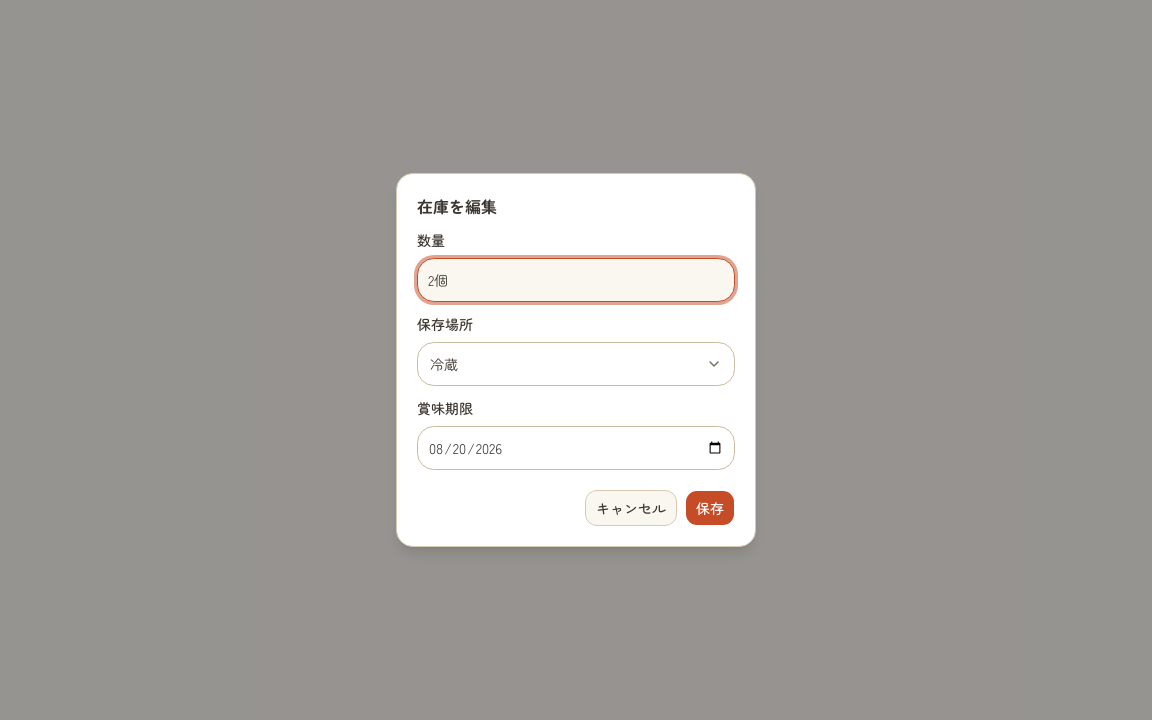
it: StockEditDialog › SED-10: 通信エラー時は入力値を保持してダイアログを閉じない
This screenshot has width=1152, height=720.
Replace the text in the field showing "2個" with "5個". click: x=576, y=280
box: x1=417 y1=258 x2=735 y2=302
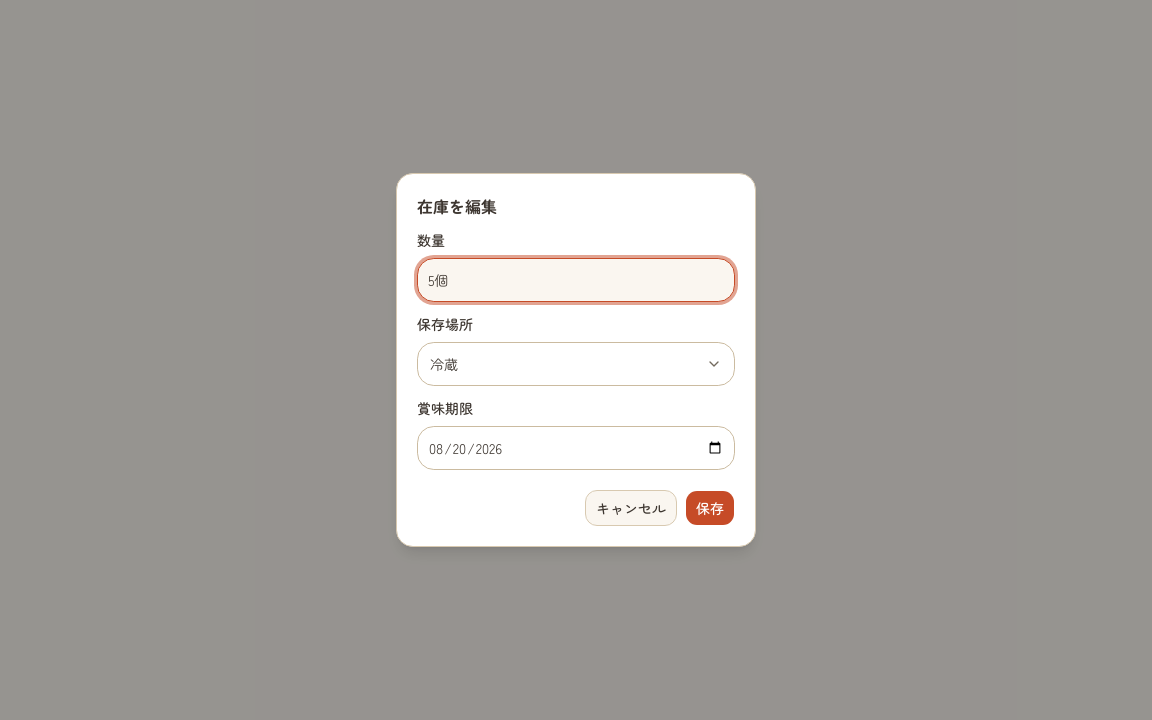
Click the button "保存". click: x=710, y=508
box: x1=685 y1=490 x2=735 y2=526
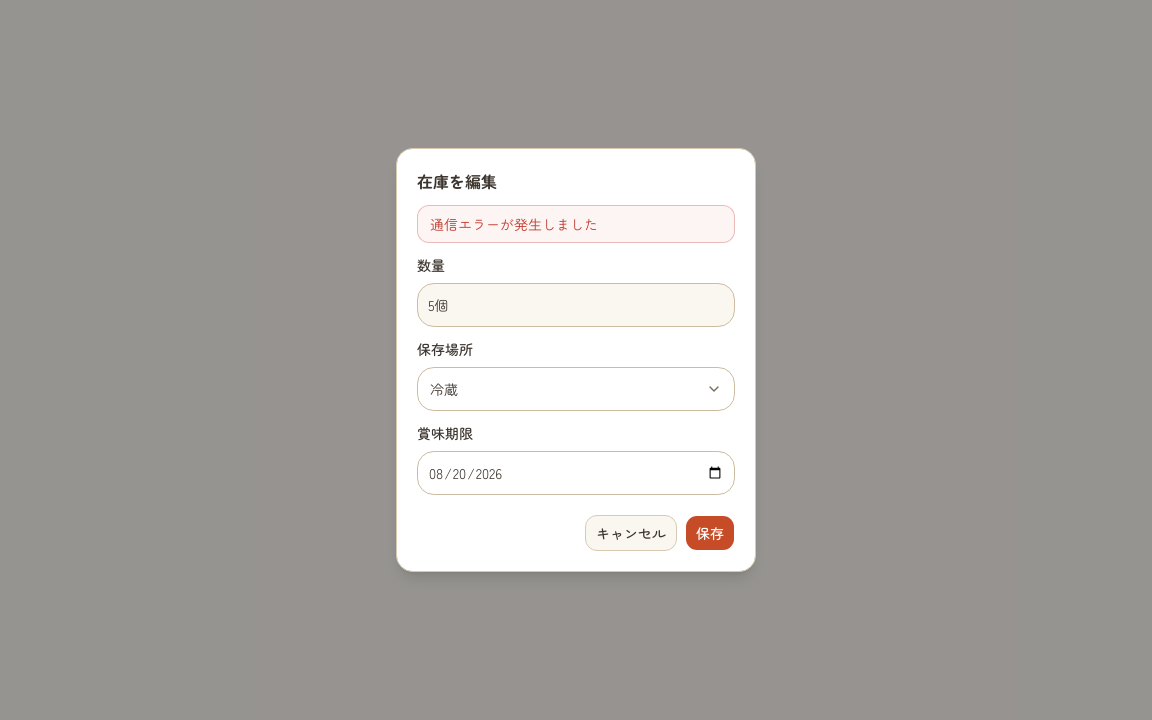
Expected: the text "通信エラーが発生しました" is shown, x1=417 y1=205 x2=735 y2=243
